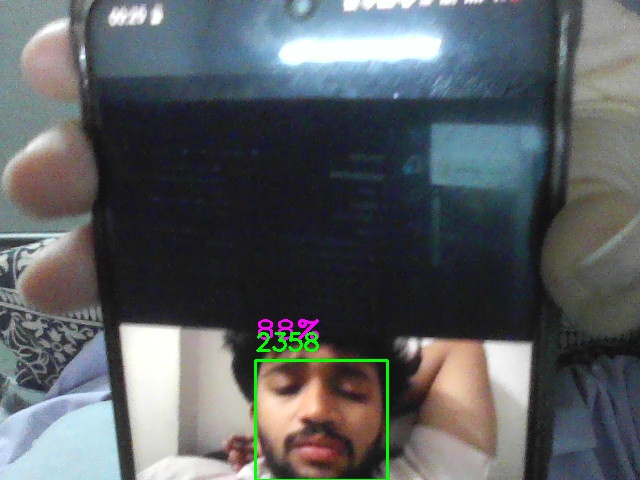fake: (255, 360, 388, 480)
